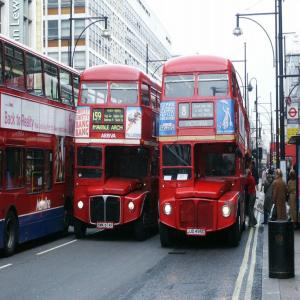Vehicle-registration-plate: (188, 227, 208, 237), (98, 222, 115, 230)
